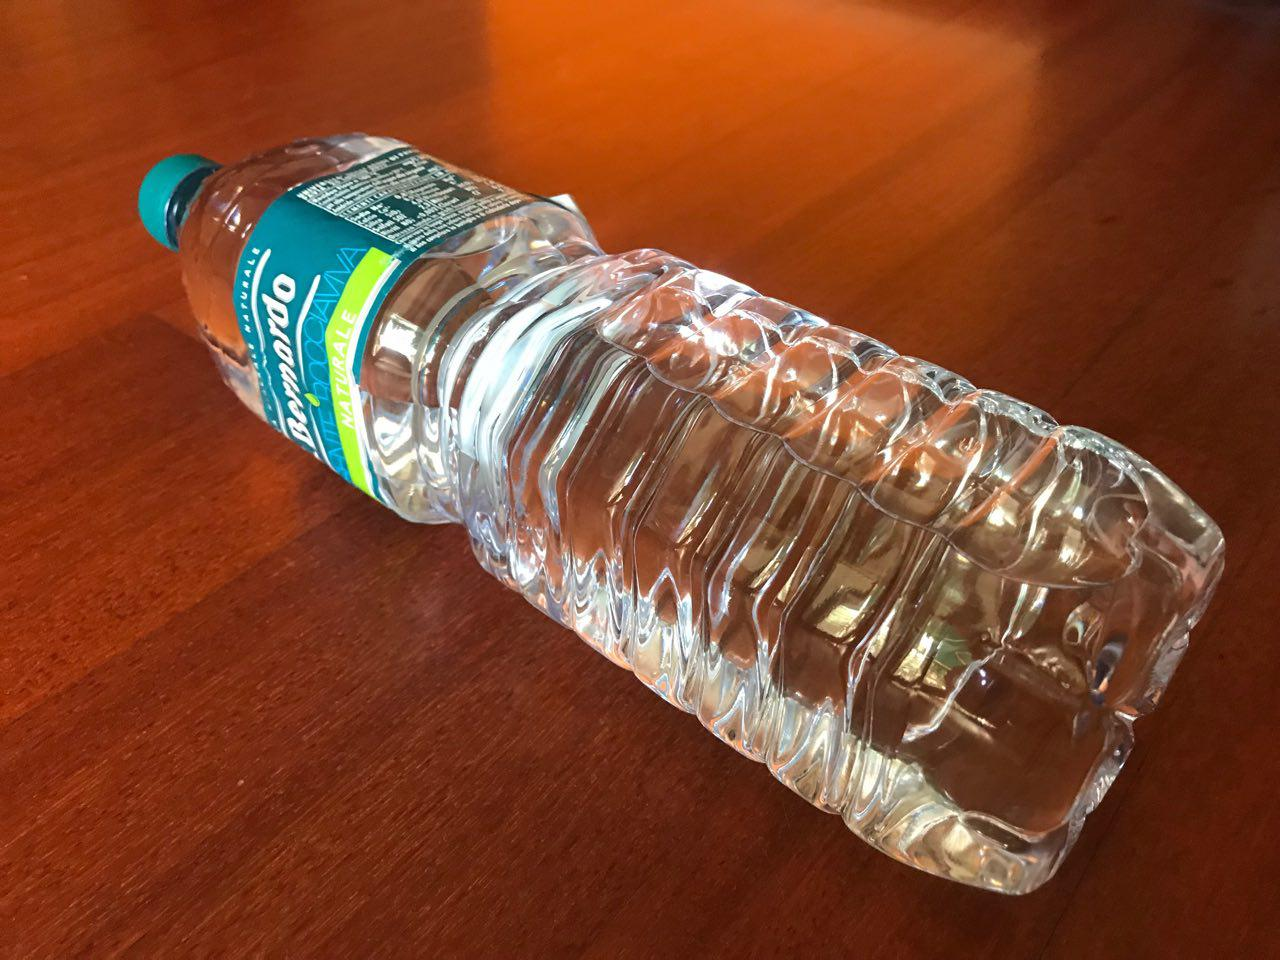san_bernardo: (133, 128, 1227, 897)
